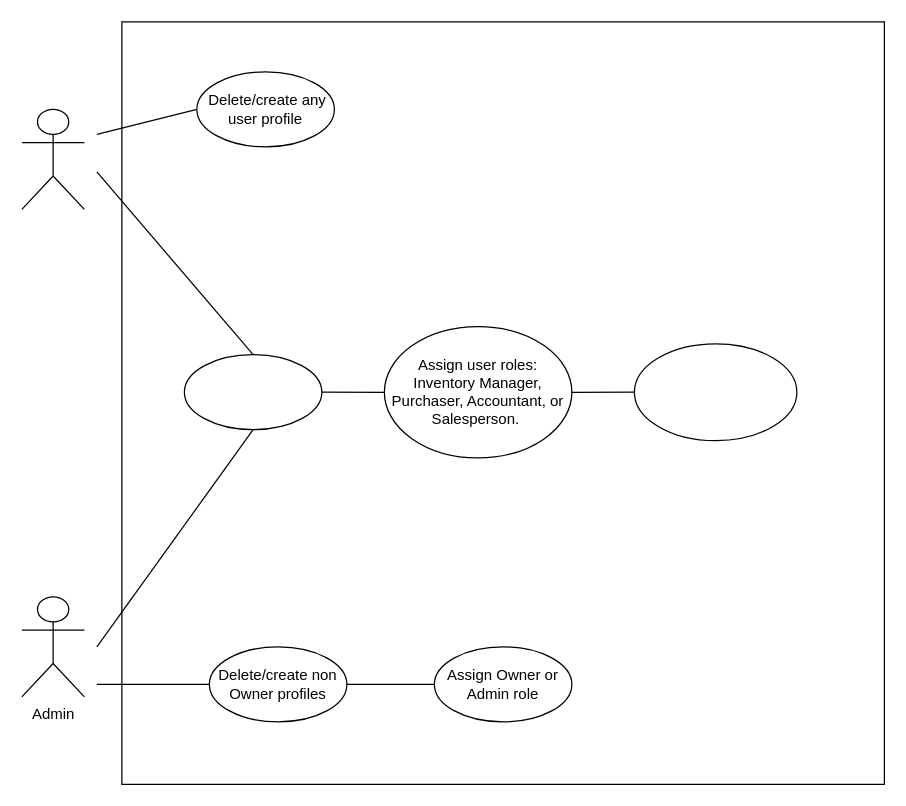
The diagram is 906 pixels wide and 806 high, and some of its shapes have lost their labels. Each missing label, with the centre of its shape:
Create user profiles: the point at 252,391
Owner: the point at 52,158
Reset passwords for any users: the point at 715,391
